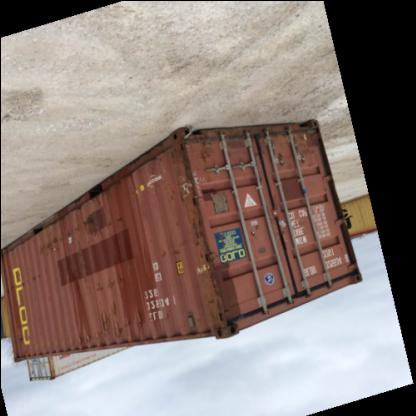Damage: (186, 206, 228, 330), (67, 299, 157, 347), (32, 208, 102, 256), (161, 148, 198, 204), (87, 272, 131, 298), (290, 128, 316, 170), (266, 130, 290, 170), (193, 132, 219, 168), (18, 268, 46, 294), (154, 243, 184, 261), (243, 216, 261, 242)
